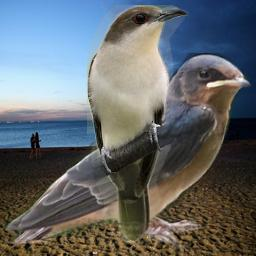Cuckoo: (87, 5, 189, 245)
Swallow: (3, 53, 252, 254)
